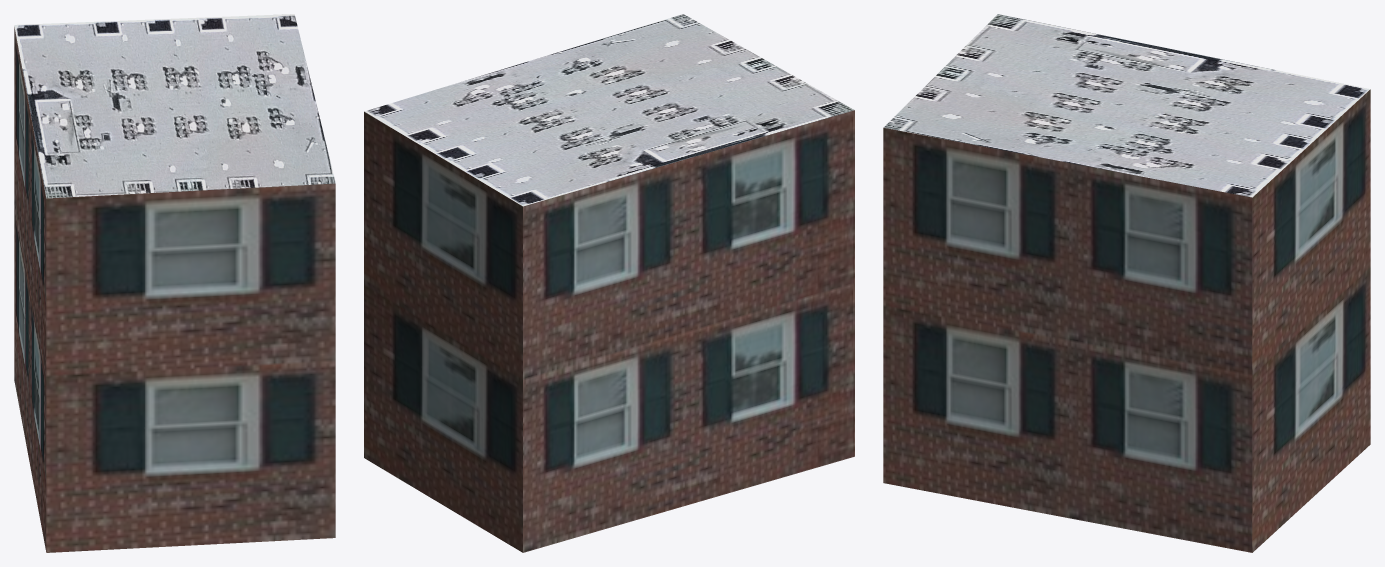
Rendered from ResTex__80.fbx.
3 renders of one model, left to right at view 1: azimuth 30°, elevation 25°; view 2: azimuth 150°, elevation 25°; view 3: azimuth 270°, elevation 25°, orthographic. The views are drawn at different scales.
Parts seen in each view (by area): view 1: CityEngineMaterial_14_m, CityEngineMaterial_8_m; view 2: CityEngineMaterial_14_m, CityEngineMaterial_8_m; view 3: CityEngineMaterial_14_m, CityEngineMaterial_8_m.
Part boxes in pixels (x1,y1,x2,y2): CityEngineMaterial_14_m: [14, 27, 335, 552]; CityEngineMaterial_8_m: [14, 14, 335, 198]; CityEngineMaterial_14_m: [364, 110, 854, 552]; CityEngineMaterial_8_m: [364, 14, 854, 206]; CityEngineMaterial_14_m: [883, 89, 1370, 552]; CityEngineMaterial_8_m: [884, 14, 1370, 197].
Size of the model in its own units: 6.65 by 6 by 7.45.
2 materials, 2 textured.
